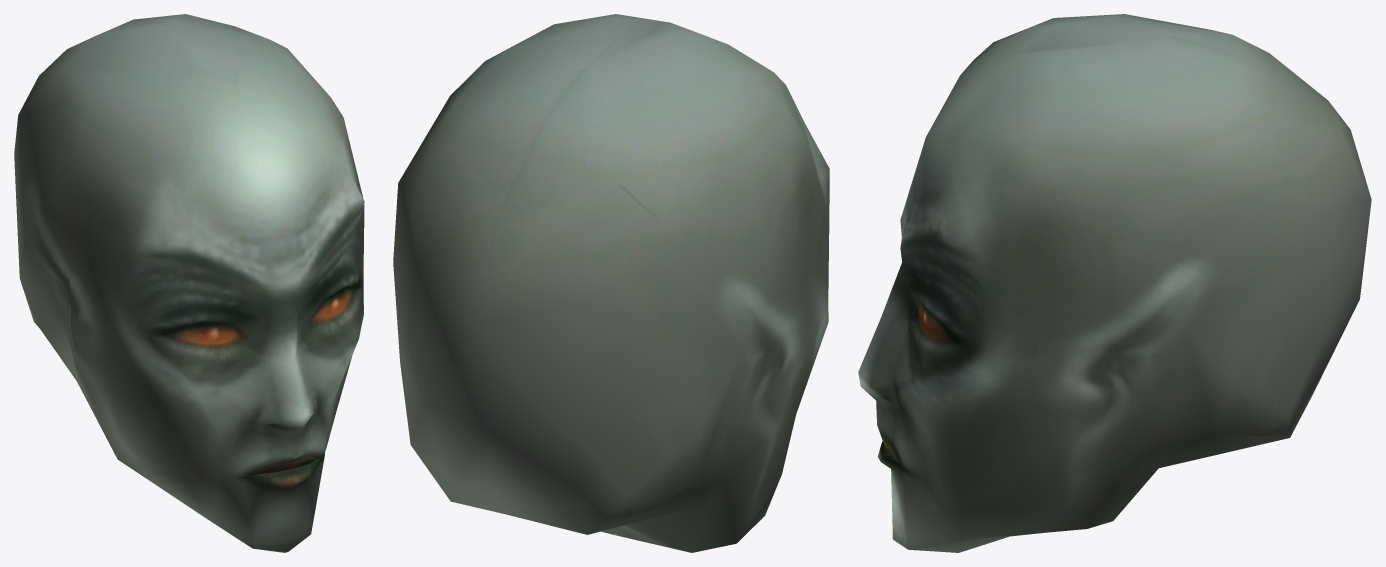
File: b_n_dark elf_f_head_01.glb
3 renders of one model, left to right at view 1: azimuth 30°, elevation 25°; view 2: azimuth 150°, elevation 25°; view 3: azimuth 270°, elevation 25°, orthographic. The views are drawn at different scales.
Visible parts, largest first — view 1: Tri B_N_Dark Elf_F_Head_01; view 2: Tri B_N_Dark Elf_F_Head_01; view 3: Tri B_N_Dark Elf_F_Head_01.
Boxes of the visible parts, x1,y1,x2,y2 form: Tri B_N_Dark Elf_F_Head_01: (14, 14, 364, 552); Tri B_N_Dark Elf_F_Head_01: (393, 14, 829, 552); Tri B_N_Dark Elf_F_Head_01: (858, 14, 1371, 552).
Bounding box in the file's own units: 0.0969 × 0.1512 × 0.1389.
Materials: 1 (1 with a texture image).
